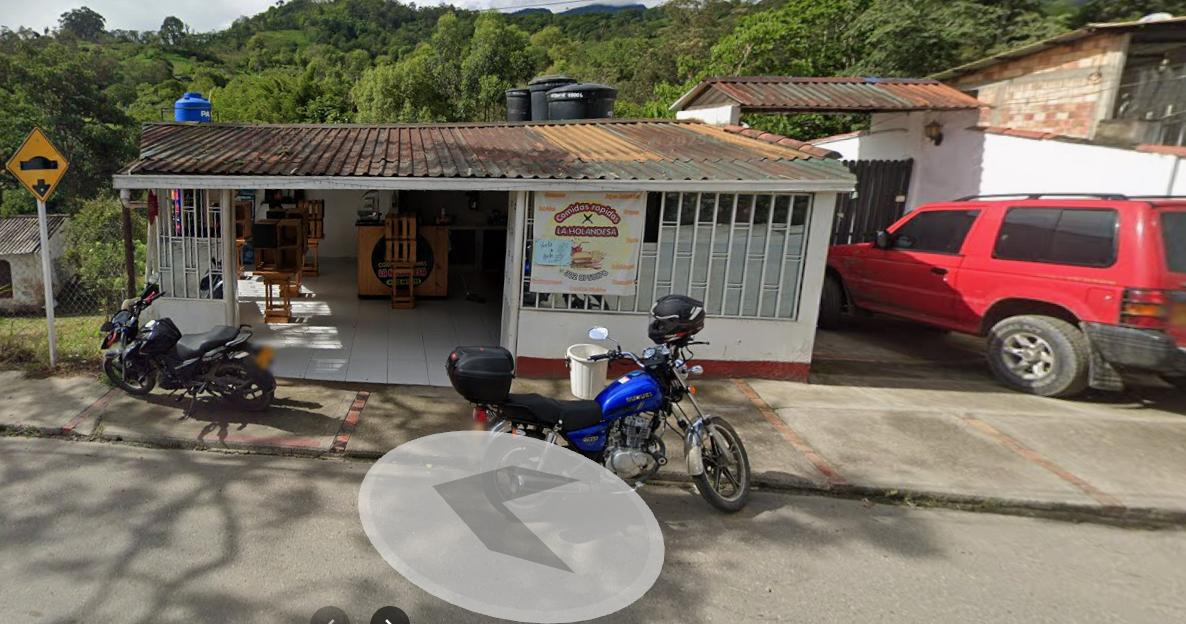casa: (115, 118, 855, 397)
